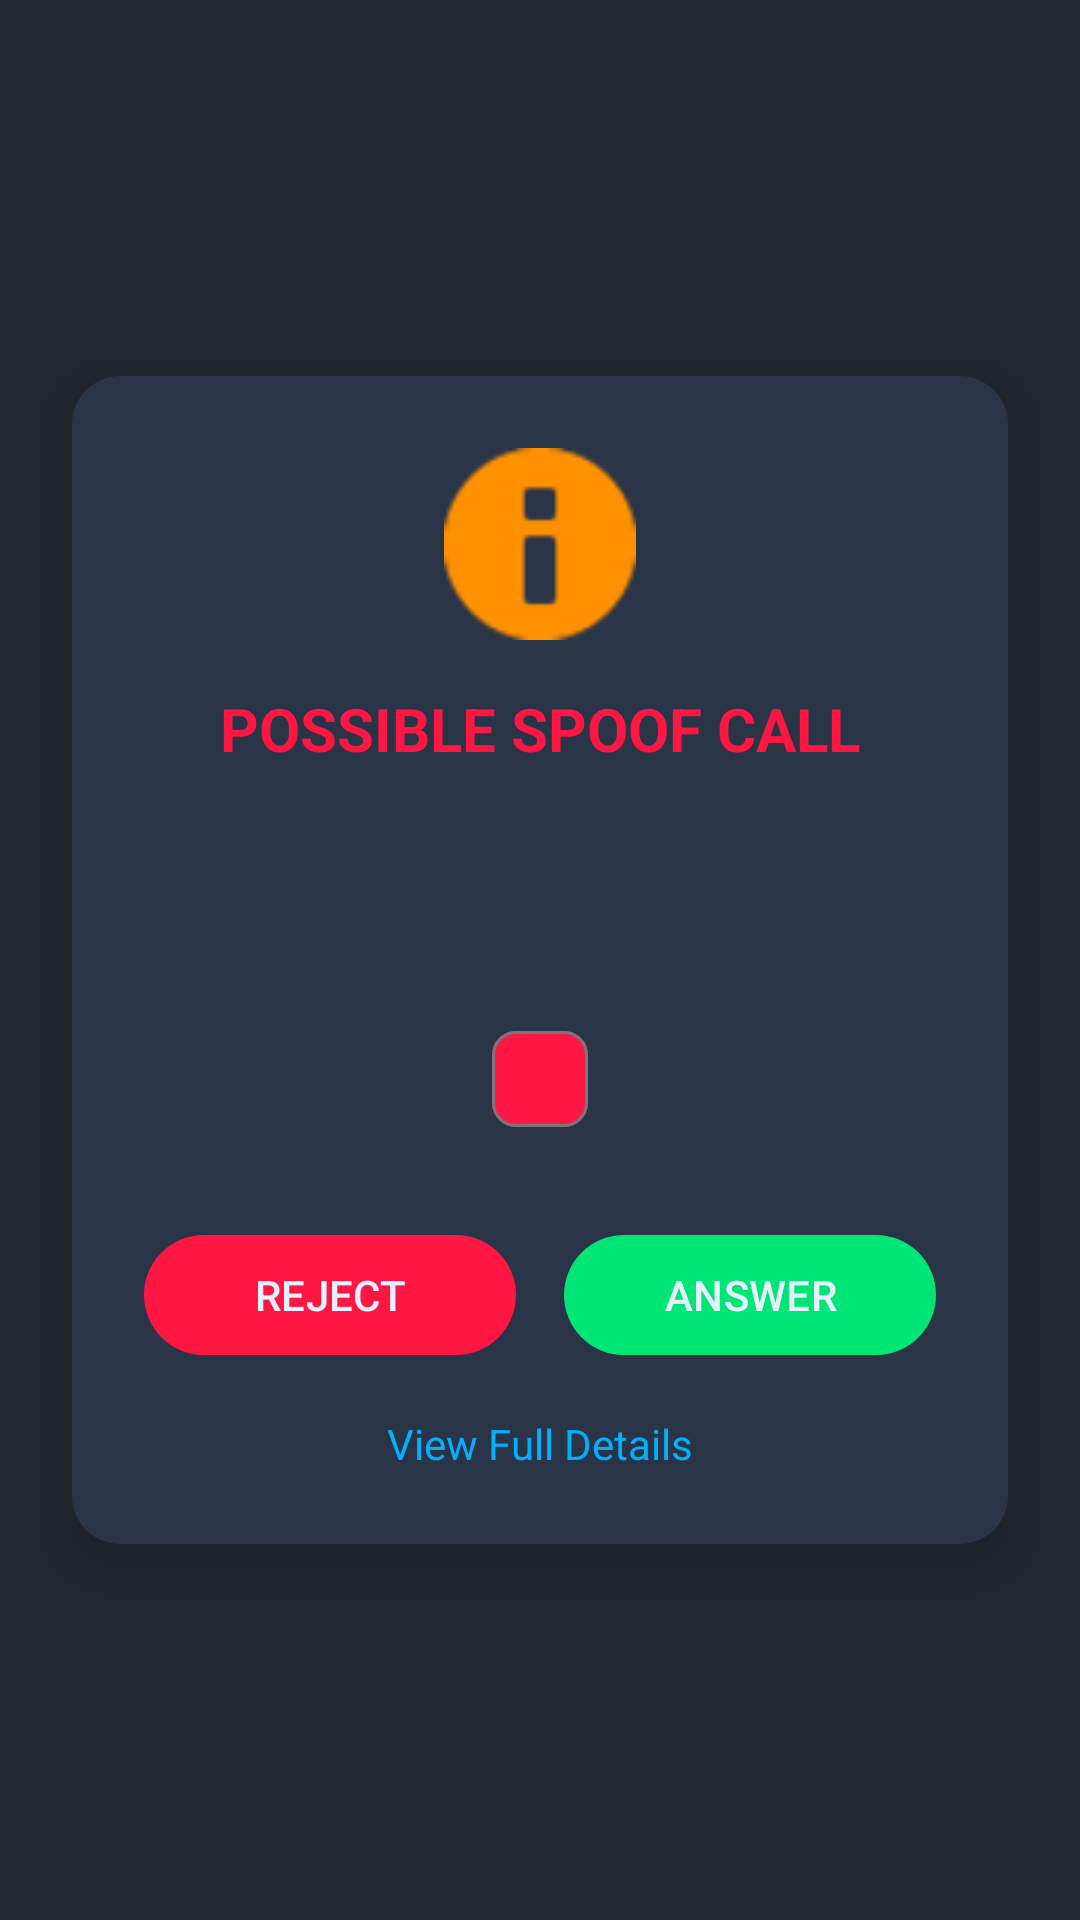

Locate icon controls on the screen. Image size 1080x1920, boxes as rect(x1, y1, x2, y2).
info: rect(444, 448, 636, 640)
